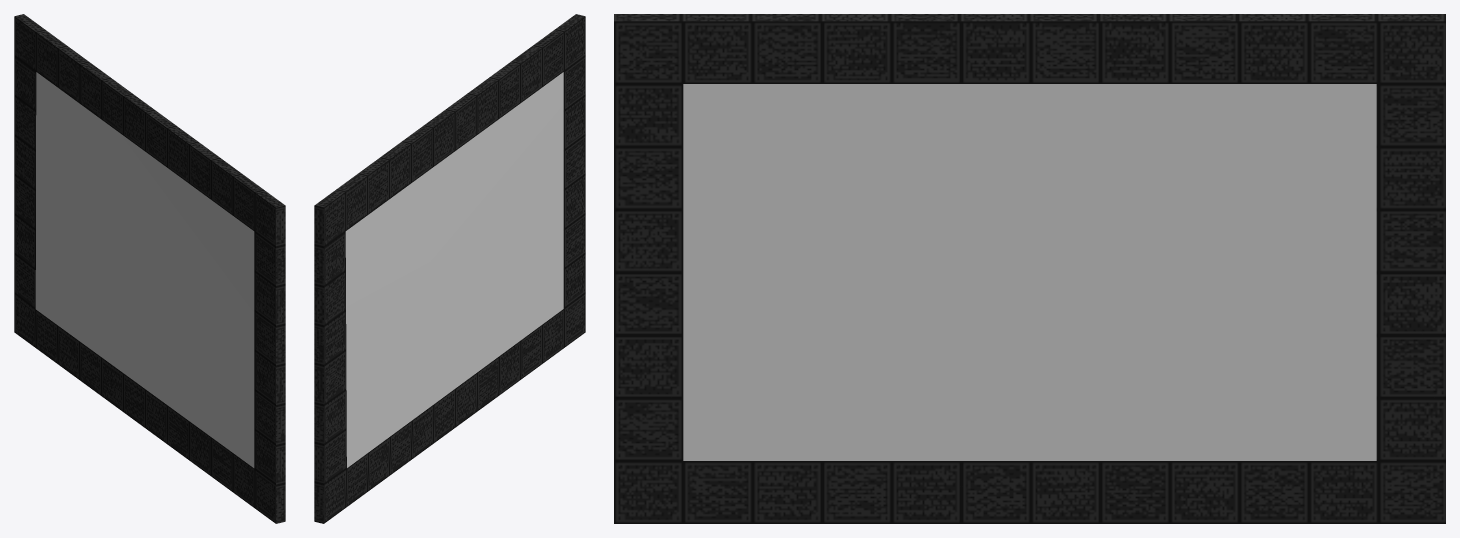
Rendered from Plate.fbx.
3 renders of one model, left to right at view 1: azimuth 30°, elevation 25°; view 2: azimuth 150°, elevation 25°; view 3: azimuth 270°, elevation 25°, orthographic. The views are drawn at different scales.
Visible parts, largest first — view 1: Cube.020; view 2: Cube.020; view 3: Cube.020.
Boxes of the visible parts, x1,y1,x2,y2 form: Cube.020: (14, 14, 285, 523); Cube.020: (314, 14, 585, 523); Cube.020: (614, 14, 1445, 523).
Size of the model in its own units: 27.25 by 800 by 1200.
